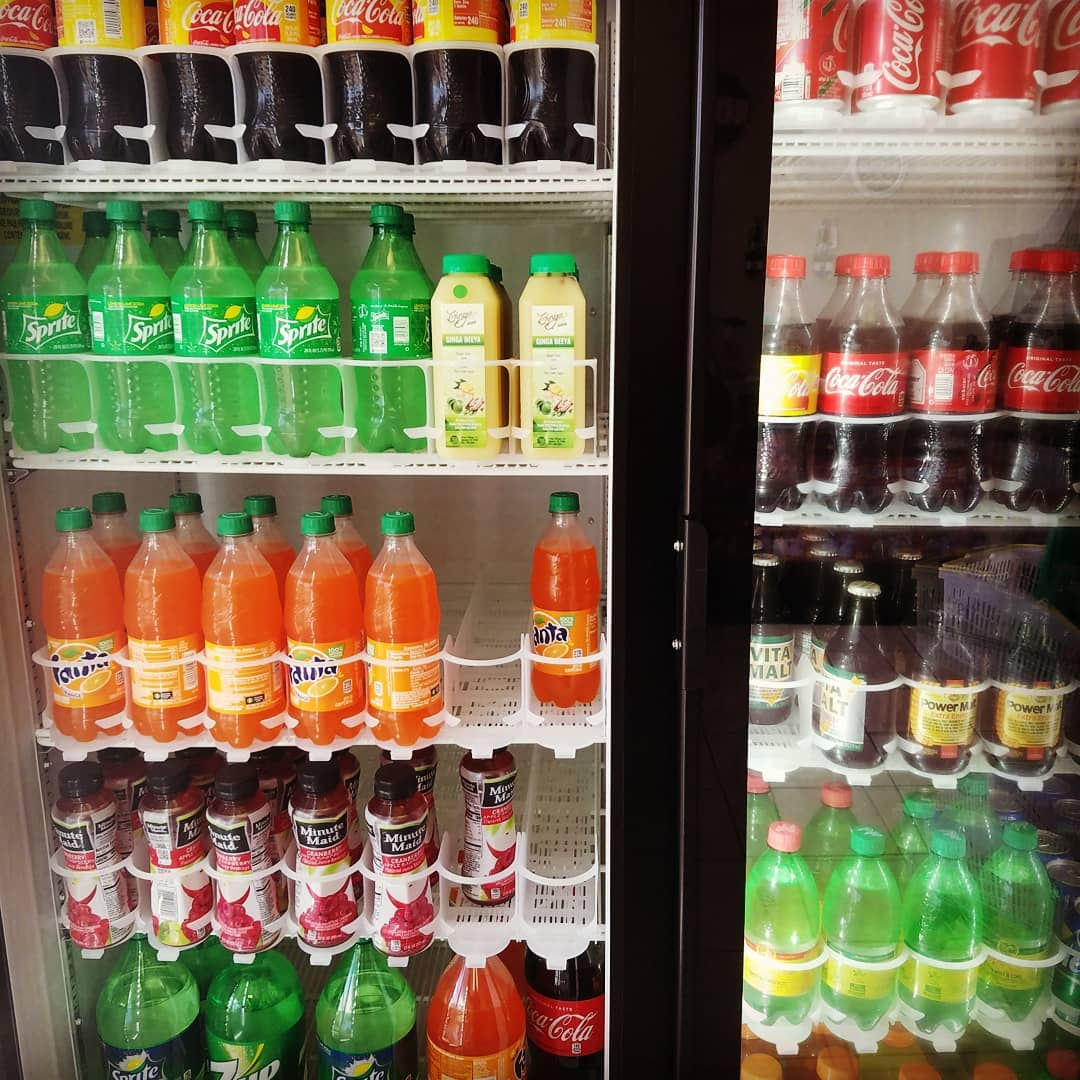cocacola: (523, 993, 595, 1058), (825, 365, 900, 398), (333, 1, 405, 26)
fanta: (54, 651, 113, 693), (288, 650, 334, 689)
minutemaid: (380, 823, 425, 855), (297, 819, 348, 846)
sprite: (23, 310, 81, 346), (201, 312, 255, 348), (273, 315, 332, 347)
vitamalt: (751, 643, 793, 682)
